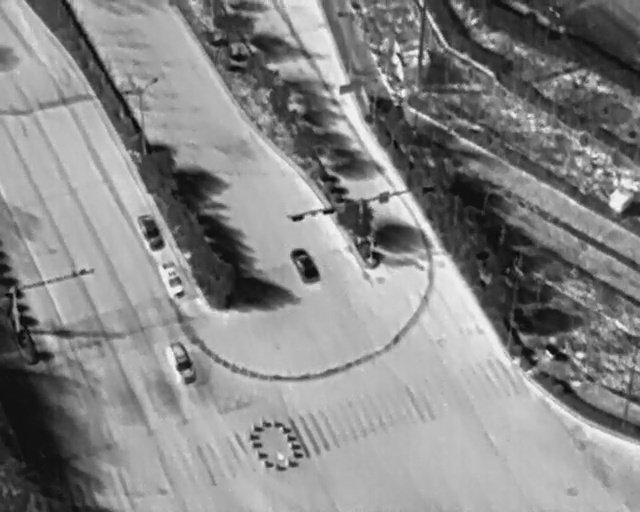Car: (164, 337, 200, 388), (286, 241, 323, 287), (155, 255, 188, 301), (135, 210, 167, 253)
